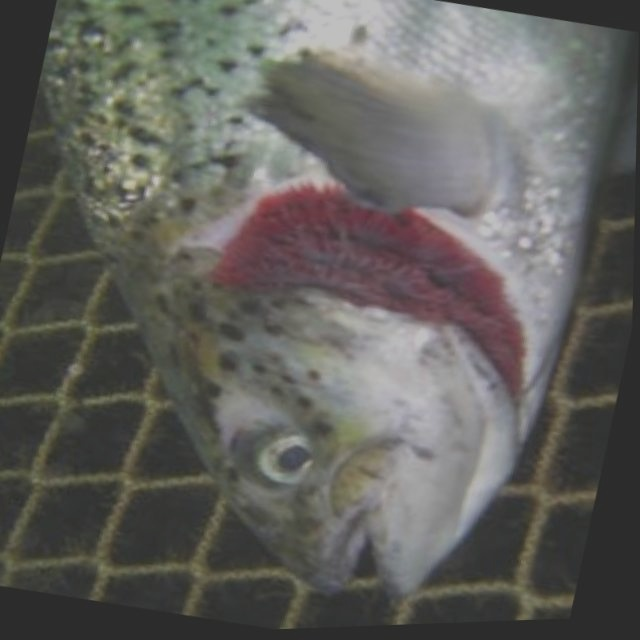Gill Disease: (53, 3, 616, 594)
